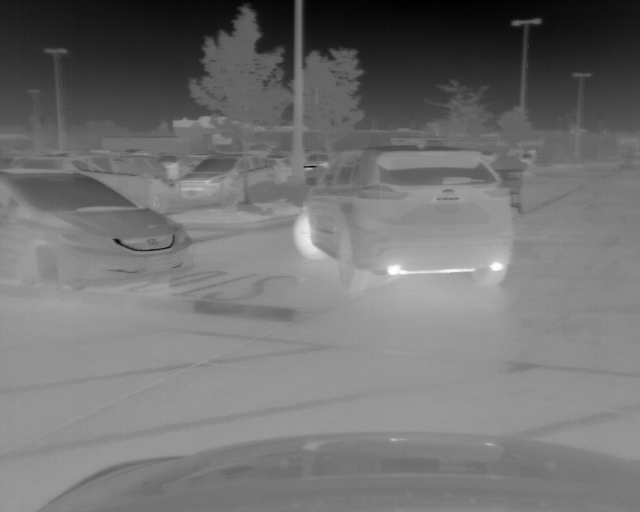car: (289, 147, 514, 288), (1, 171, 192, 293), (29, 155, 176, 215), (176, 151, 281, 212), (304, 149, 331, 175)
